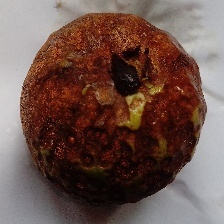guava: (43, 2, 186, 185)
